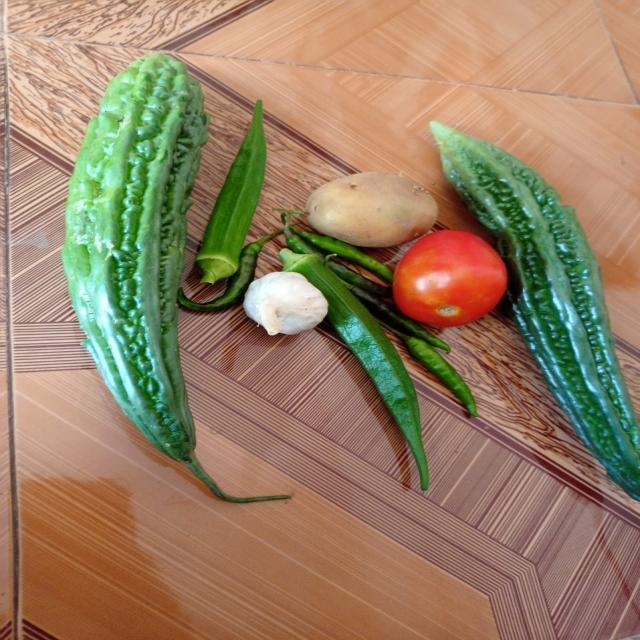Organik: (58, 56, 221, 483), (509, 186, 640, 500), (194, 140, 270, 284), (301, 174, 438, 245), (409, 330, 487, 418), (241, 273, 326, 340)
